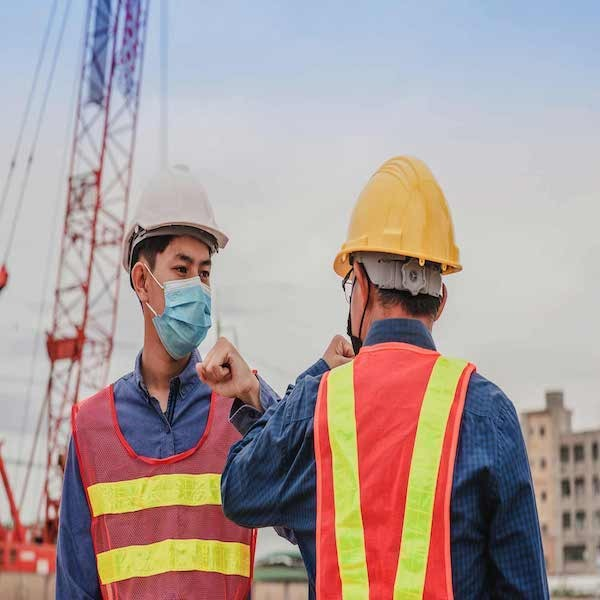helmet: (332, 159, 465, 271), (127, 169, 229, 243)
vest: (73, 379, 255, 600), (315, 367, 473, 600)
